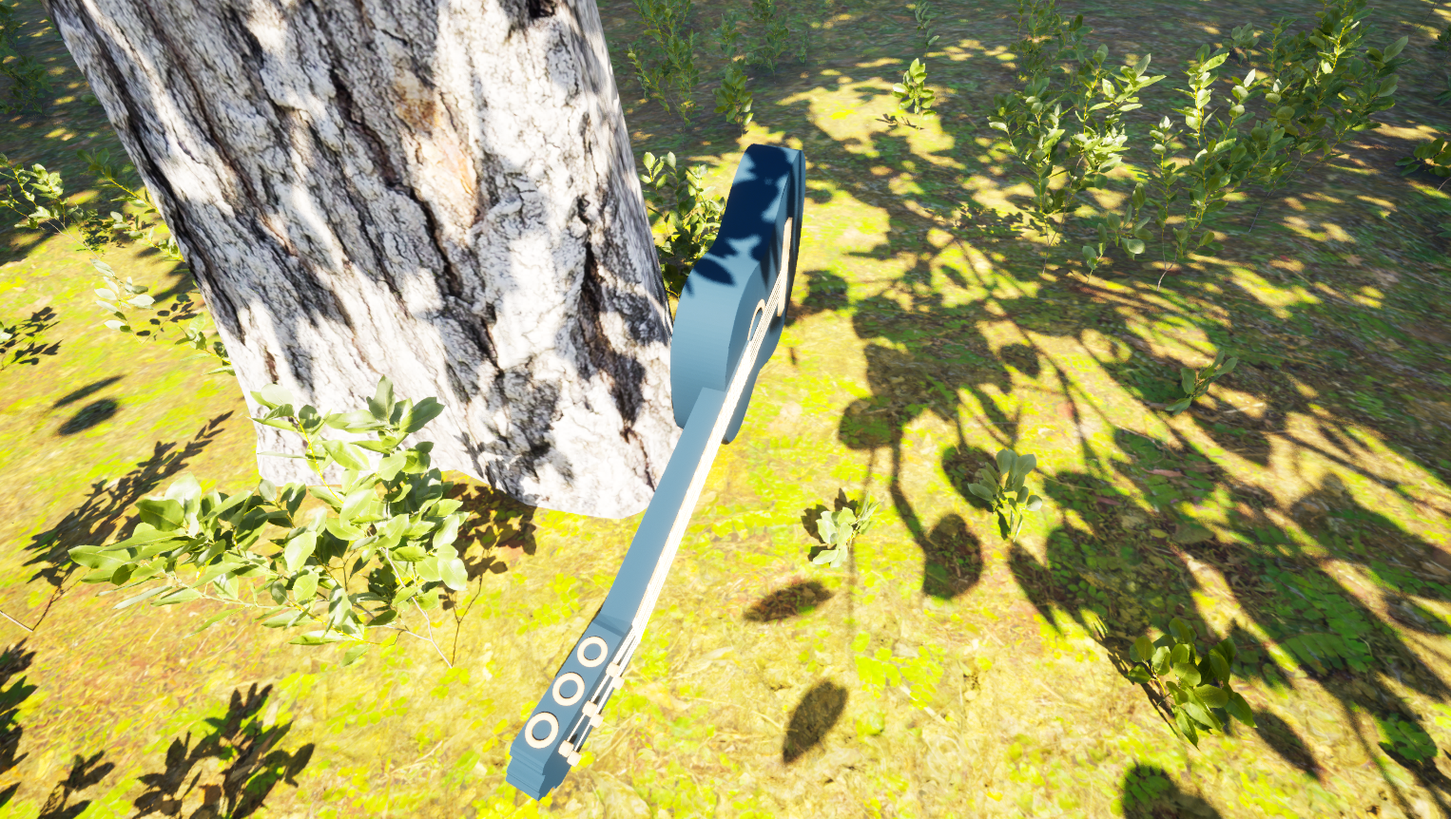Guitar: (398, 115, 817, 819)
